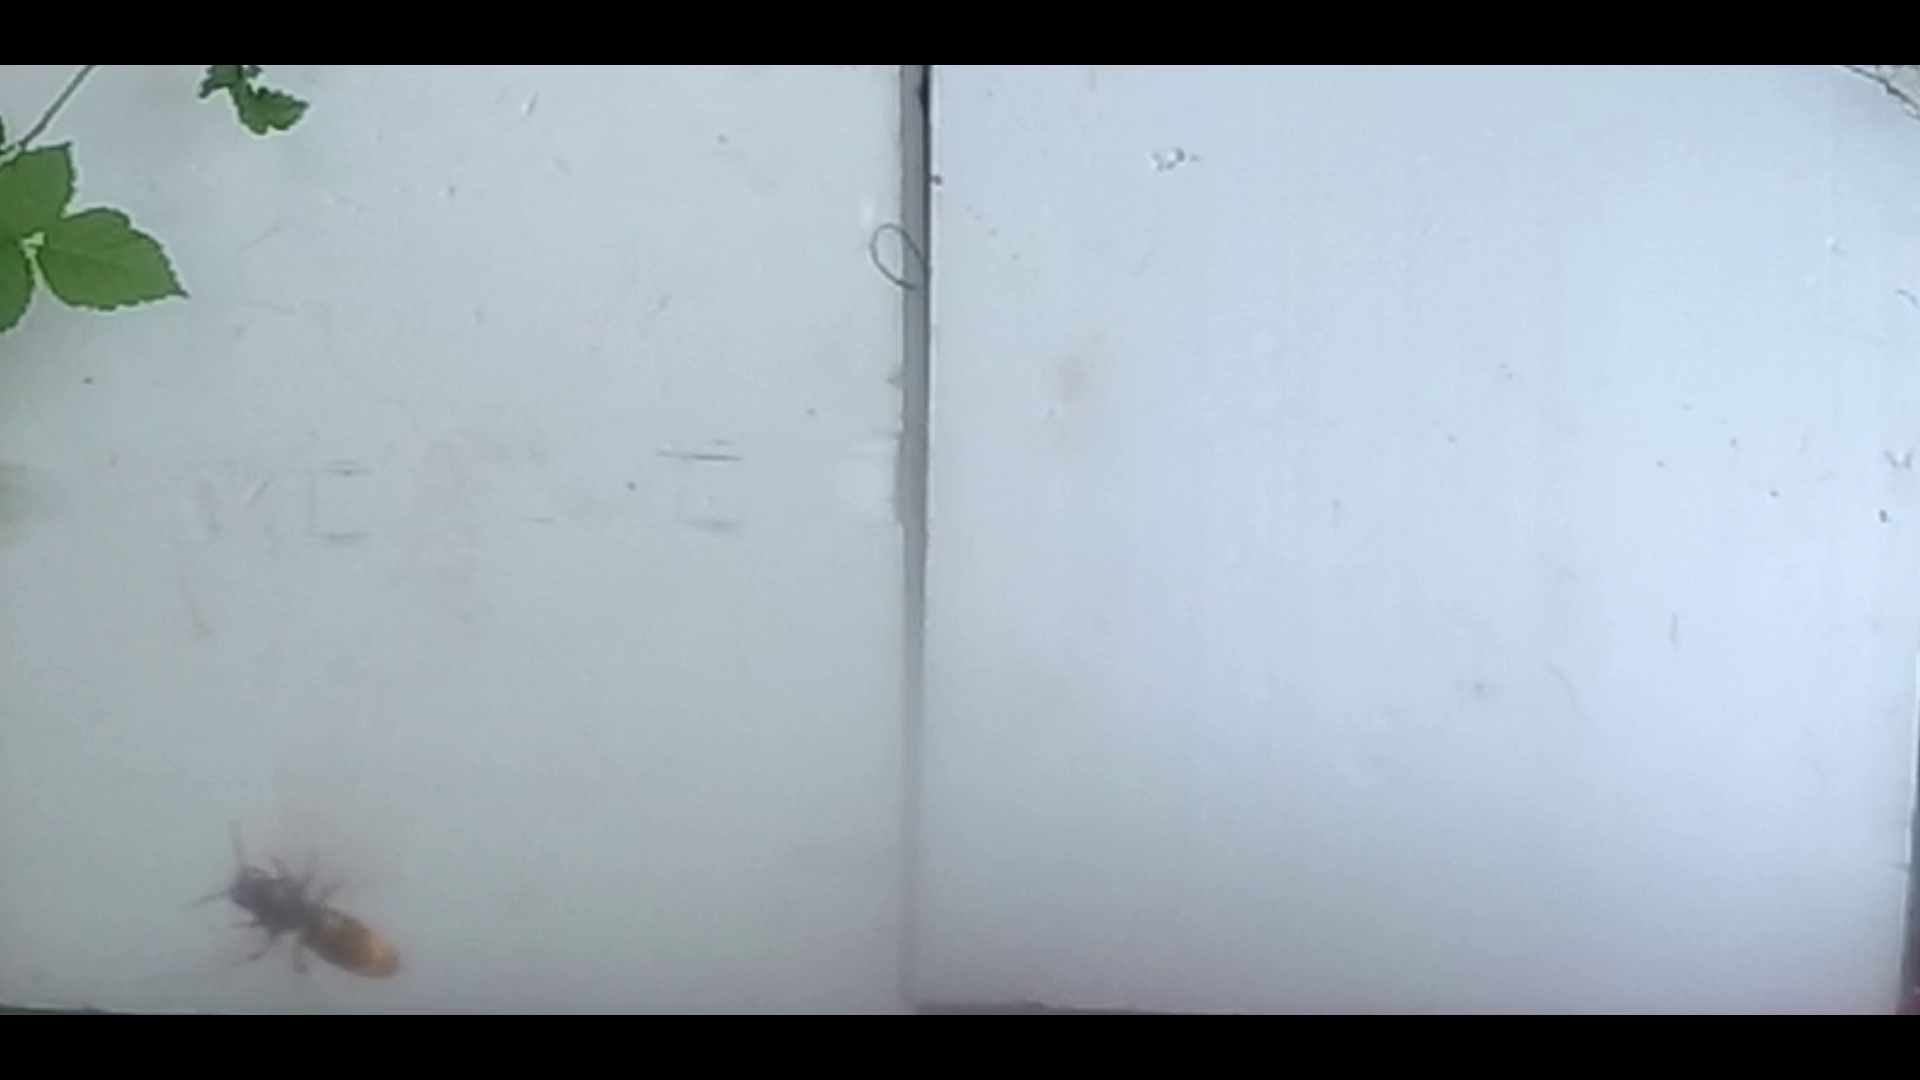Asian_hornets: (173, 819, 411, 1000)
